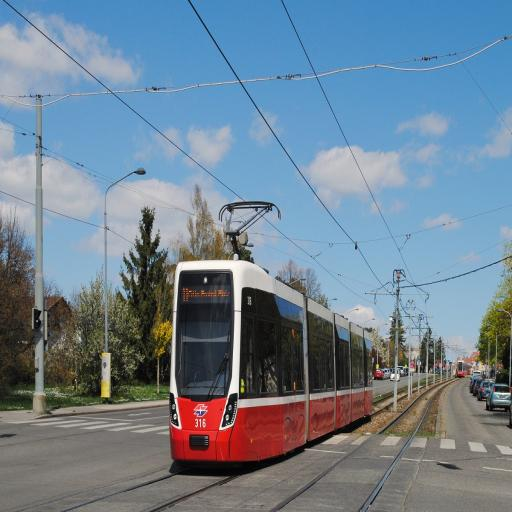Flexity: (168, 257, 374, 461)
